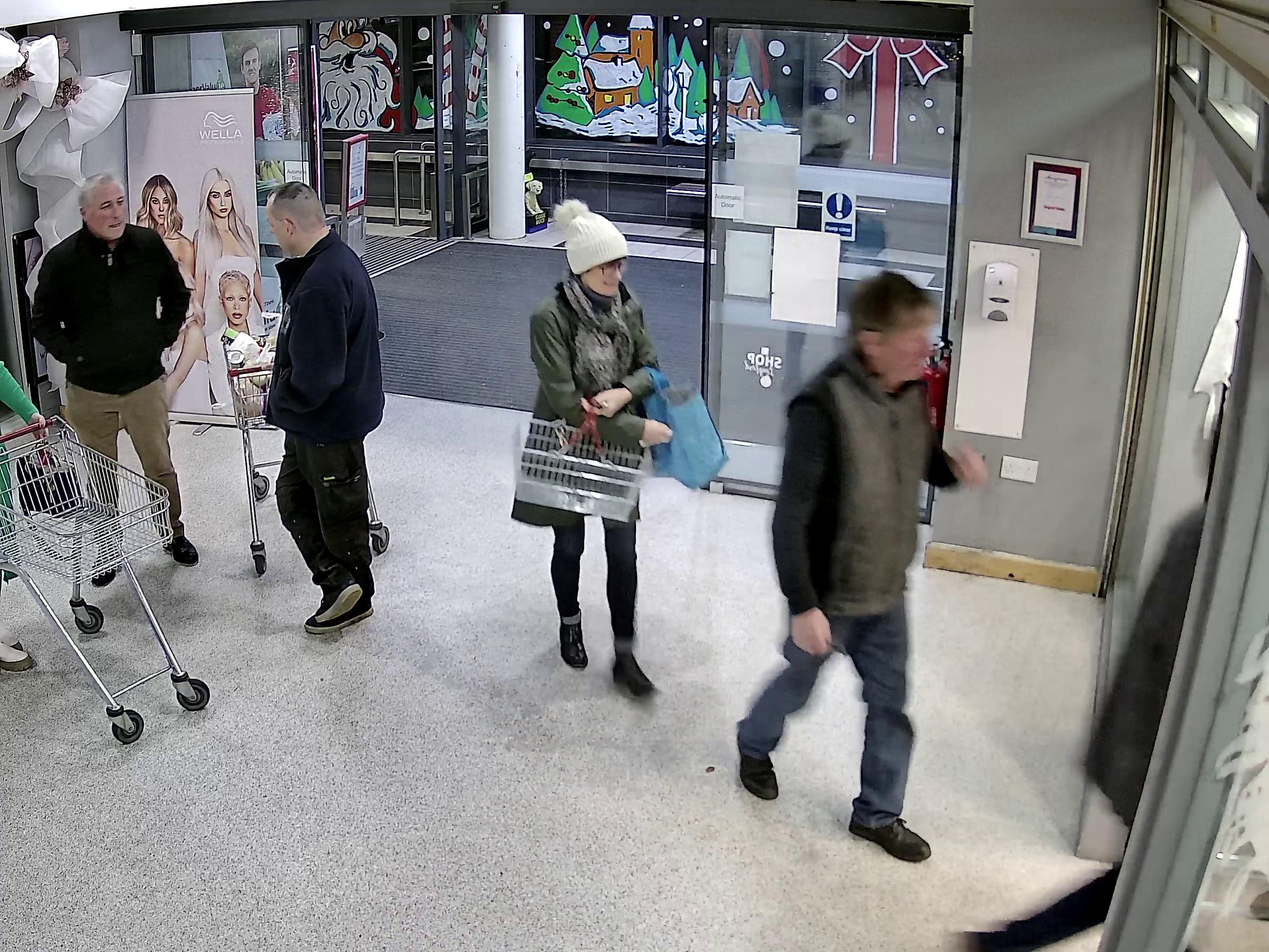backpack-or-handbag: (12, 448, 81, 510)
empty-basket: (512, 415, 643, 523)
empty-trolly: (0, 415, 211, 746)
filled-shopping-bags: (647, 370, 728, 490)
filled-trolly: (221, 326, 391, 575)
person: (510, 201, 660, 700), (265, 180, 385, 634)
person-with-basket-trolly-and-shopping-bag: (510, 200, 727, 700)
person-with-filled-basket-trolly: (220, 179, 393, 634)
